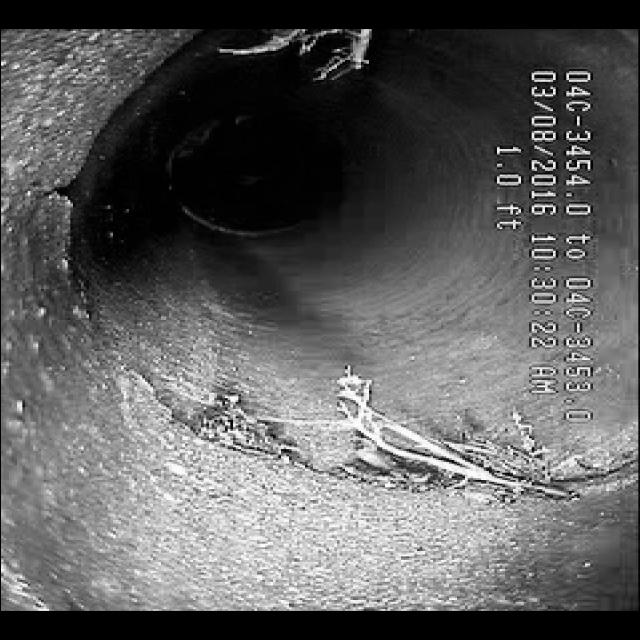Fracture: (101, 401, 351, 493)
